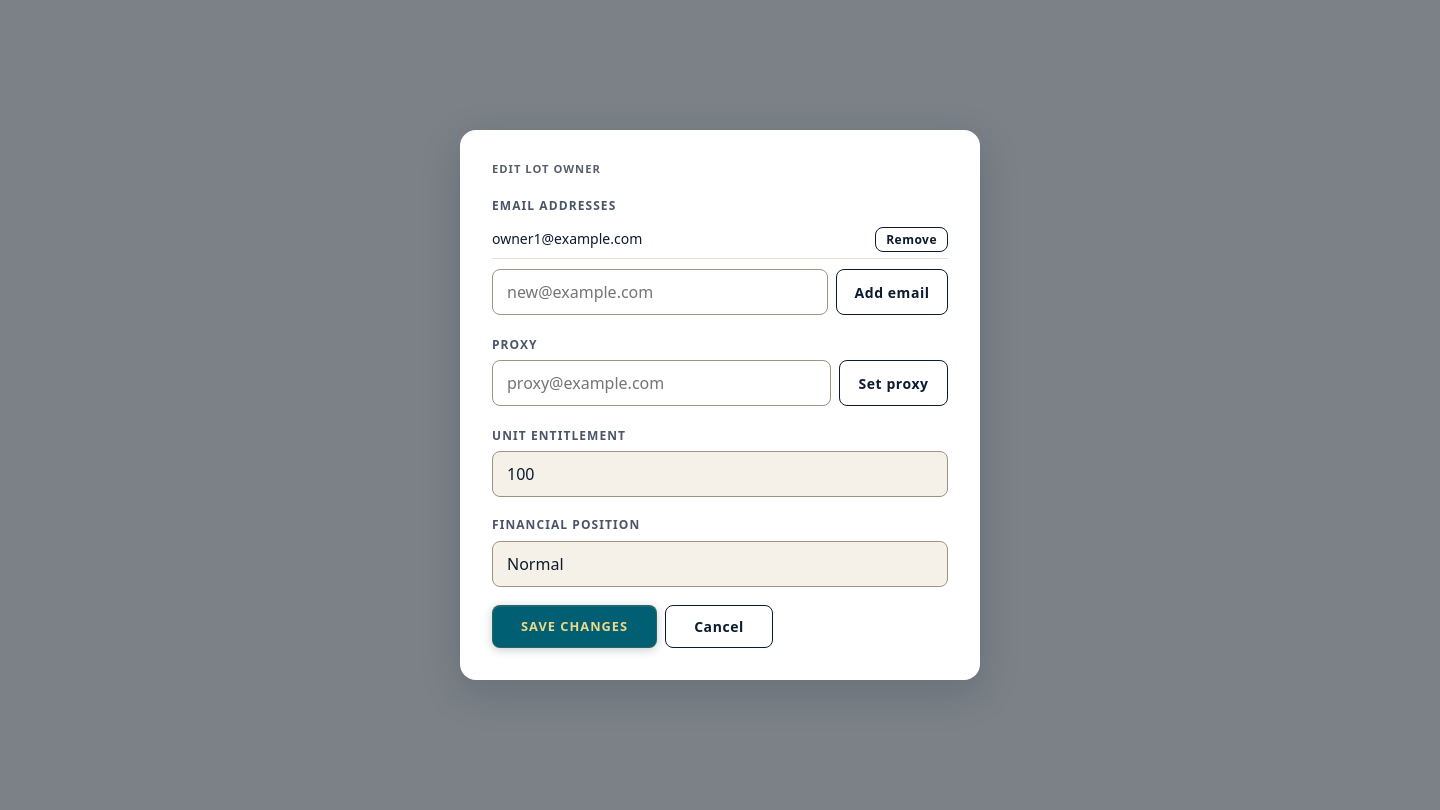
Scenario: LotOwnerForm - Edit modal › shows validation error when unit entitlement is not a number (edit modal)
This screenshot has width=1440, height=810.
Replace the text in the number field labelled "Unit Entitlement" with "abc" at (720, 474), box [492, 451, 948, 497]
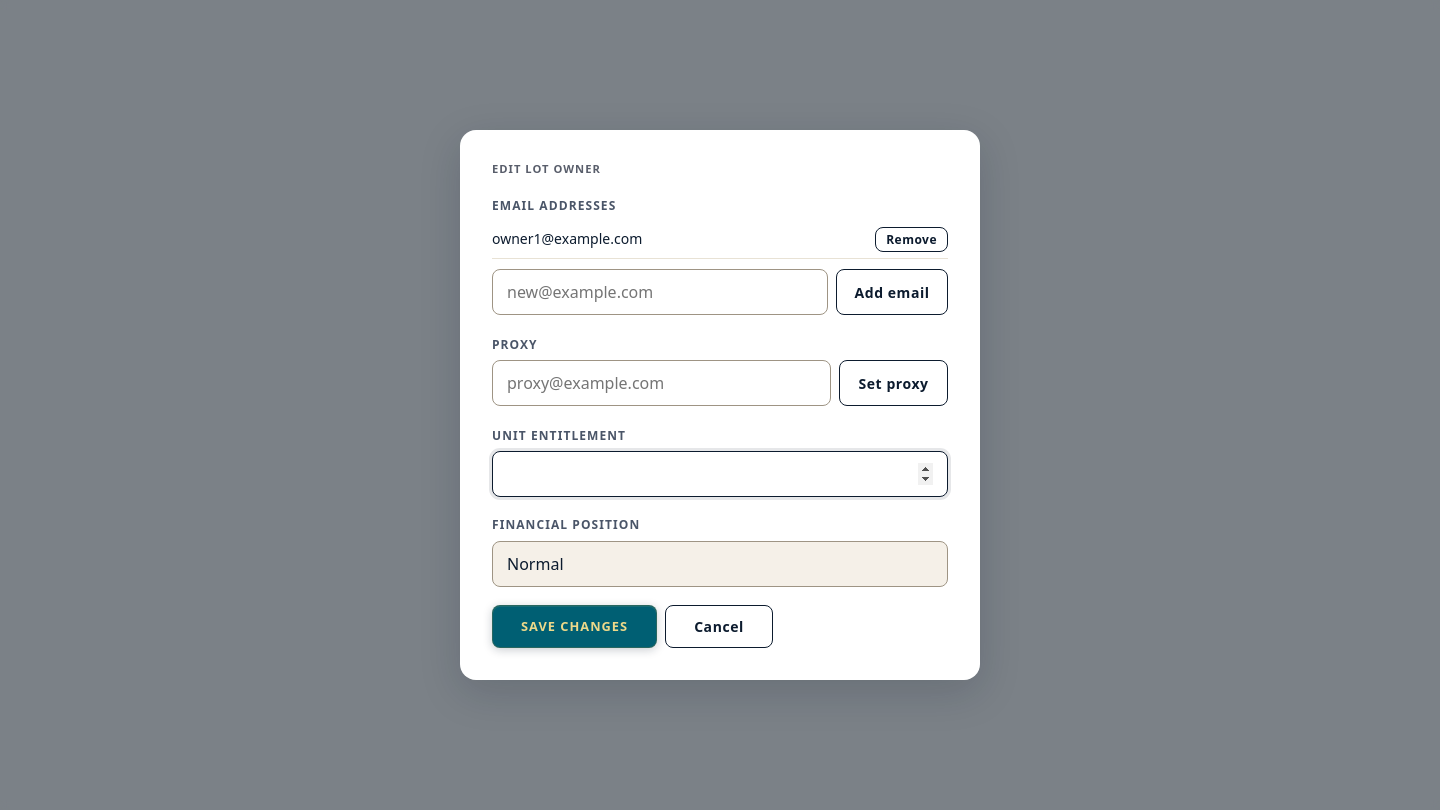
Click the button "Save Changes".
click(575, 626)  # box [492, 605, 657, 648]
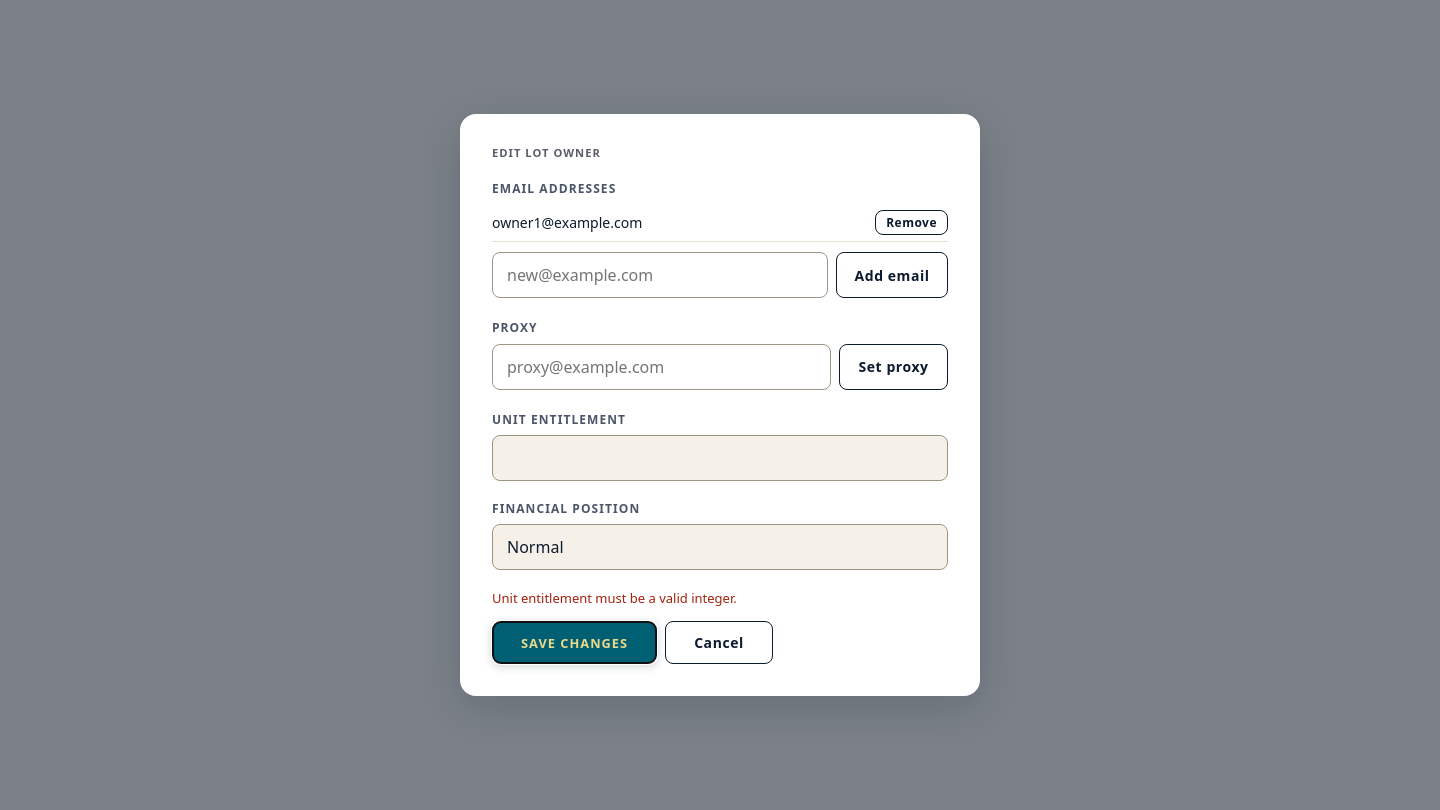
Check: the text "Unit entitlement must be a valid integer." is shown, box [492, 589, 737, 607]
